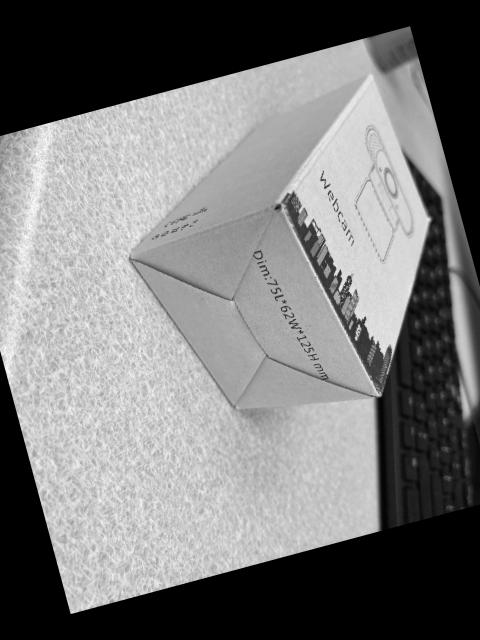CameraBox1: (126, 76, 427, 411)
